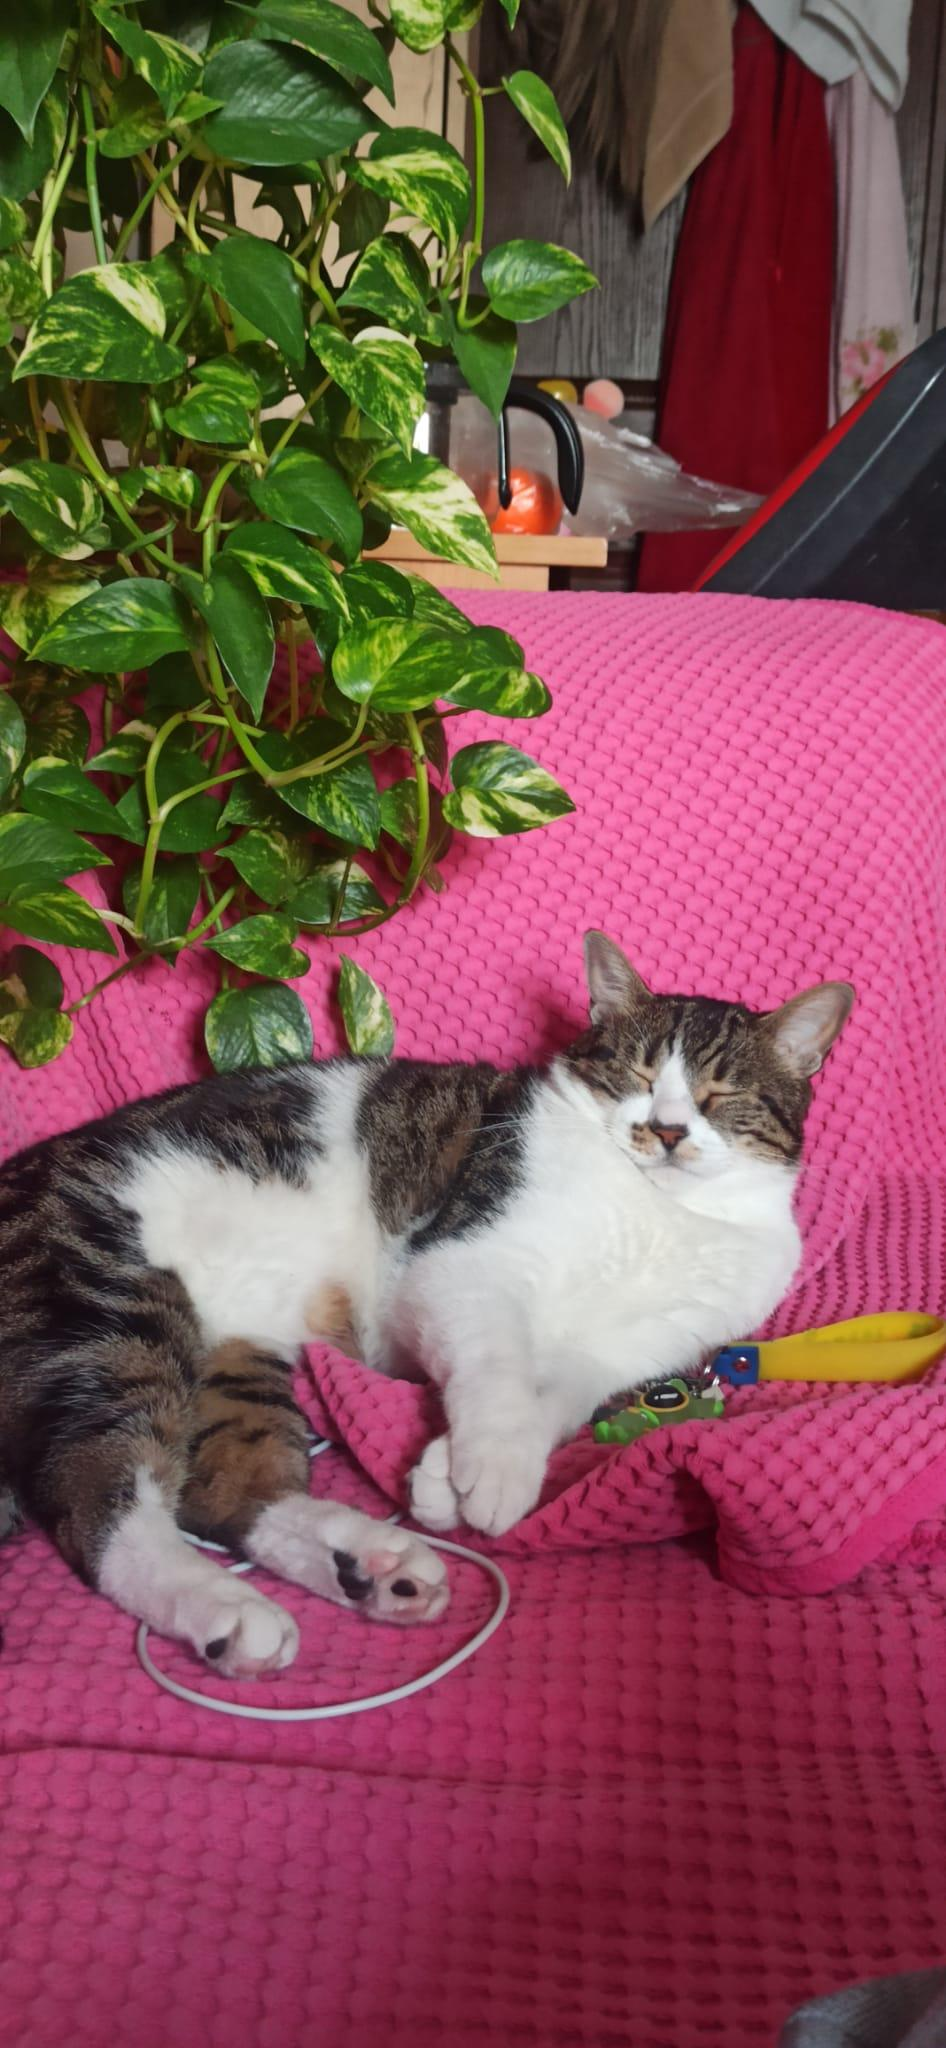kedo: (7, 931, 844, 1674)
